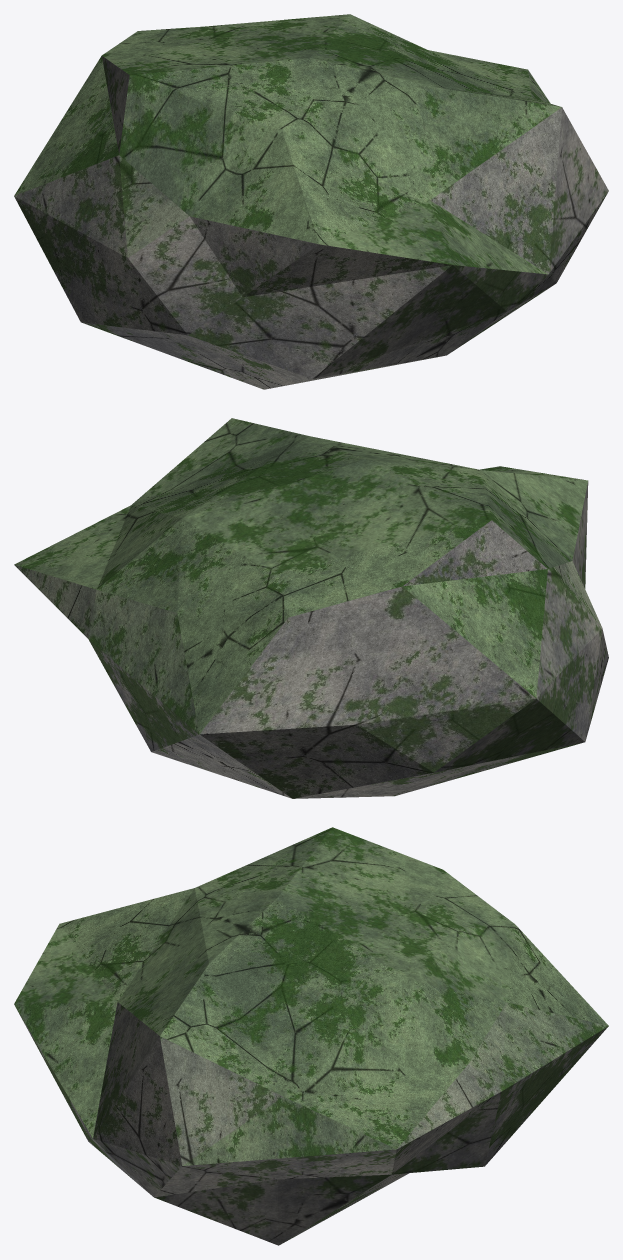
Rendered from rock_mossy_a.glb.
3 renders of one model, top to bottom at view 1: azimuth 30°, elevation 25°; view 2: azimuth 150°, elevation 25°; view 3: azimuth 270°, elevation 25°, orthographic. The views are drawn at different scales.
Parts seen in each view (by area): view 1: rock_mossy_a; view 2: rock_mossy_a; view 3: rock_mossy_a.
Boxes of the visible parts, x1,y1,x2,y2 form: rock_mossy_a: (14,14,608,389); rock_mossy_a: (14,418,608,798); rock_mossy_a: (14,827,608,1245).
Bounding box in the file's own units: 1.81 × 1 × 1.89.
Materials: 1 (1 with a texture image).
